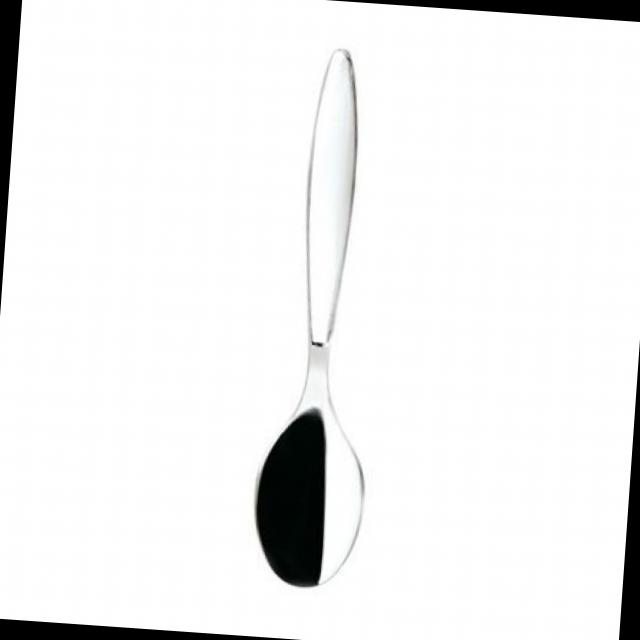spoon: (242, 44, 398, 594)
